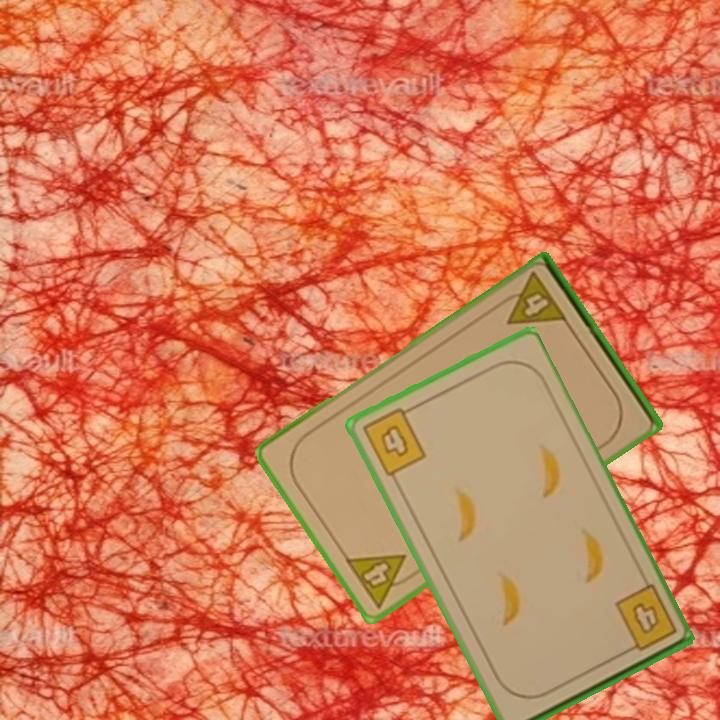4b: (358, 402, 429, 479), (611, 581, 680, 657)
4p: (341, 550, 420, 611), (493, 268, 570, 329)
